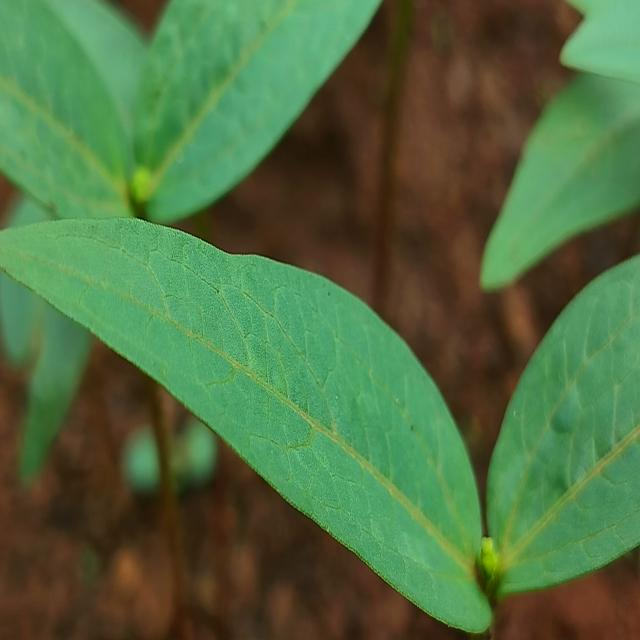Black gram_healthy: (0, 211, 484, 640), (128, 0, 387, 231), (484, 252, 640, 596)
